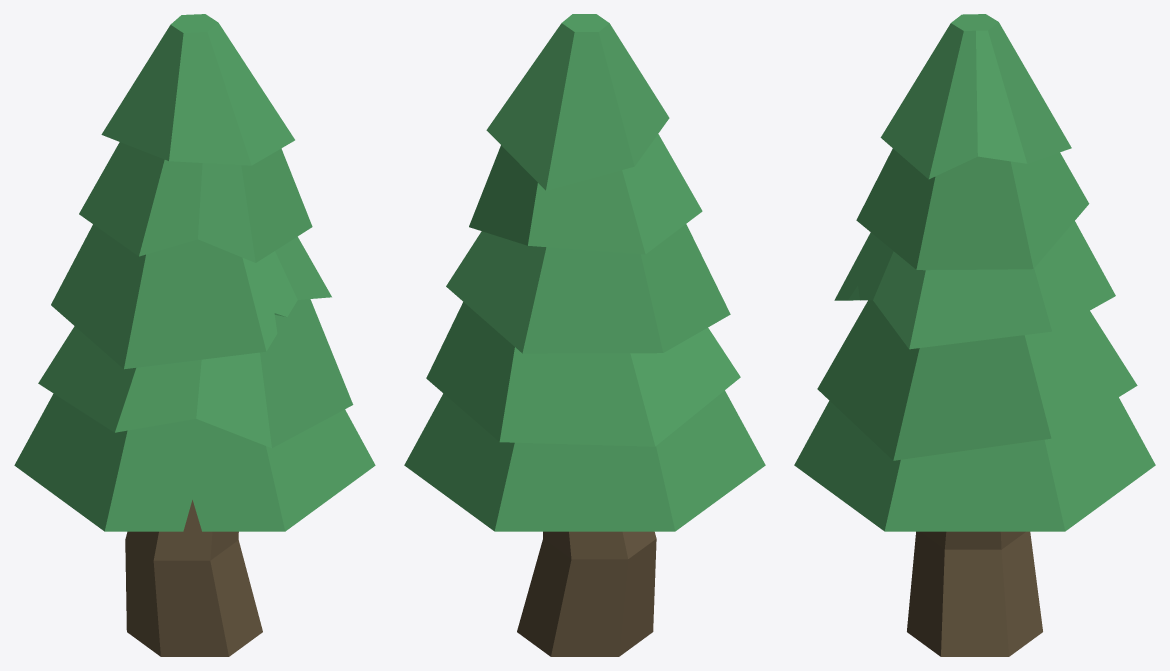
The model's file is PineTree.fbx.
3 renders of one model, left to right at view 1: azimuth 30°, elevation 25°; view 2: azimuth 150°, elevation 25°; view 3: azimuth 270°, elevation 25°, orthographic.
Parts seen in each view (by area): view 1: Cylinder.001, Cylinder.003, Cylinder.002, Cylinder.004, Cylinder.005, Cylinder; view 2: Cylinder.001, Cylinder.002, Cylinder.003, Cylinder.005, Cylinder.004, Cylinder; view 3: Cylinder.002, Cylinder.001, Cylinder.004, Cylinder.003, Cylinder.005, Cylinder.
Boxes of the visible parts, x1,y1,x2,y2 form: Cylinder.001: (14,393,375,531); Cylinder.003: (51,224,331,369); Cylinder.002: (38,299,353,447); Cylinder.004: (79,142,312,262); Cylinder.005: (101,14,294,165); Cylinder: (125,500,262,656); Cylinder.001: (404,390,765,531); Cylinder.002: (426,302,740,446); Cylinder.003: (446,224,730,353); Cylinder.005: (486,14,669,190); Cylinder.004: (469,134,702,254); Cylinder: (517,531,656,656); Cylinder.002: (817,300,1137,460); Cylinder.001: (794,397,1155,531); Cylinder.004: (856,148,1089,270); Cylinder.003: (834,221,1115,349); Cylinder.005: (880,14,1071,179); Cylinder: (907,531,1042,656).
Bounding box in the file's own units: 301 × 647 × 348.
